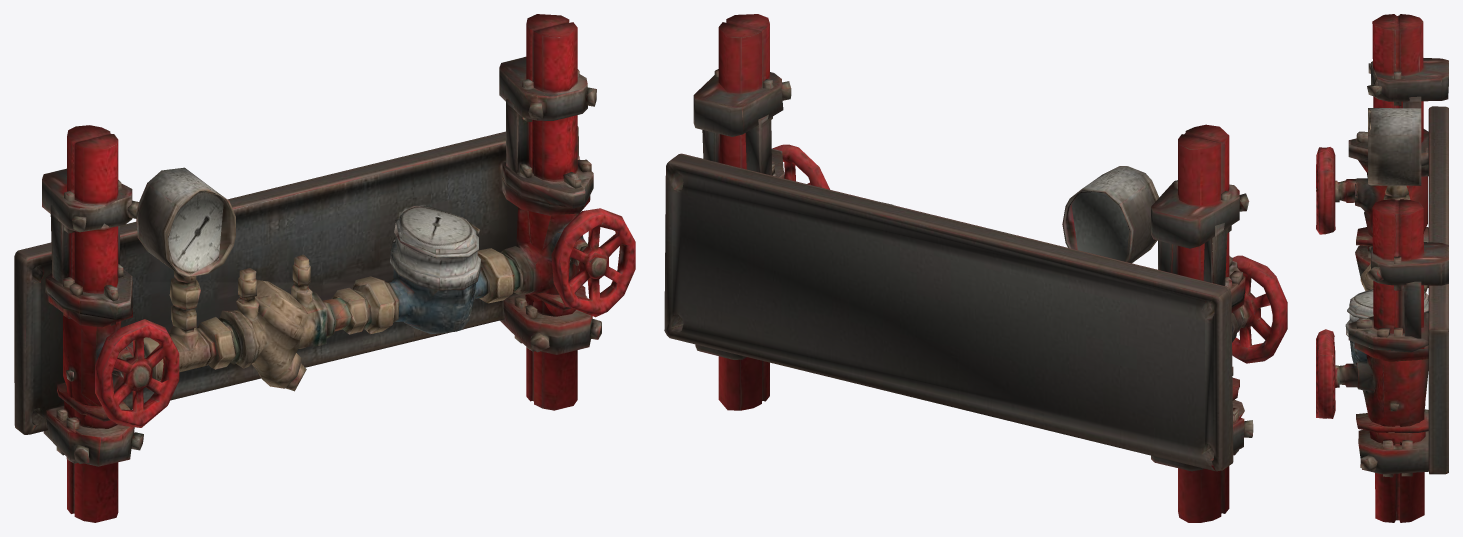
The model's file is p7-pipe-valve-manifold-t25.glb.
3 renders of one model, left to right at view 1: azimuth 30°, elevation 25°; view 2: azimuth 150°, elevation 25°; view 3: azimuth 270°, elevation 25°, orthographic. The views are drawn at different scales.
Parts seen in each view (by area): view 1: p7-pipe-valve-manifold-t25; view 2: p7-pipe-valve-manifold-t25; view 3: p7-pipe-valve-manifold-t25.
Boxes of the visible parts, box(x1,y1,x2,y2) form: p7-pipe-valve-manifold-t25: box(14, 14, 635, 522); p7-pipe-valve-manifold-t25: box(664, 14, 1287, 522); p7-pipe-valve-manifold-t25: box(1316, 14, 1448, 522).
Size of the model in its own units: 1.56 by 1 by 0.39.
1 material, 1 textured.
